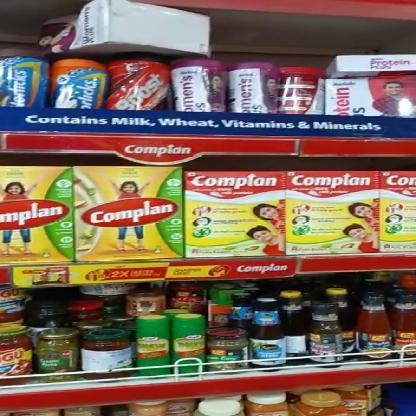Complan Pista Badam: (76, 168, 182, 260), (186, 170, 284, 258), (286, 170, 377, 256), (0, 165, 75, 263)
